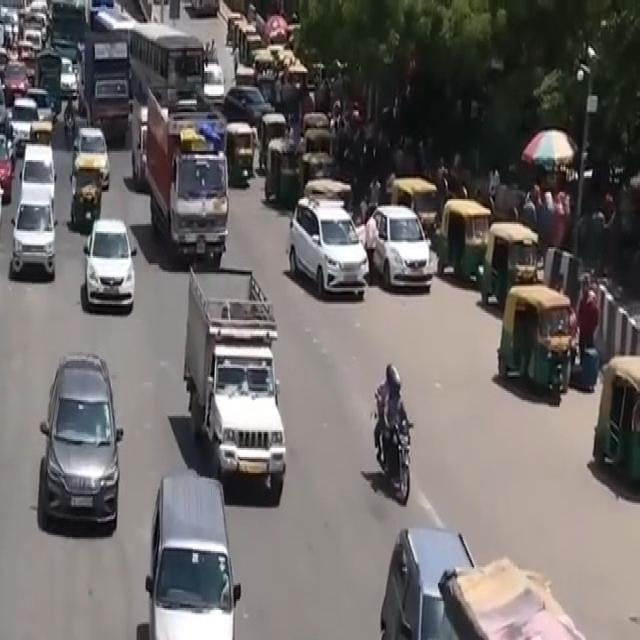car: (169, 263, 307, 510), (120, 460, 258, 640), (25, 336, 137, 551), (280, 188, 377, 310), (74, 206, 147, 324), (362, 196, 442, 292), (1, 185, 65, 291), (0, 356, 8, 542), (0, 155, 12, 247)
motorbike: (358, 352, 426, 516)
rickshaw: (488, 276, 587, 410)
van: (428, 562, 636, 640)
